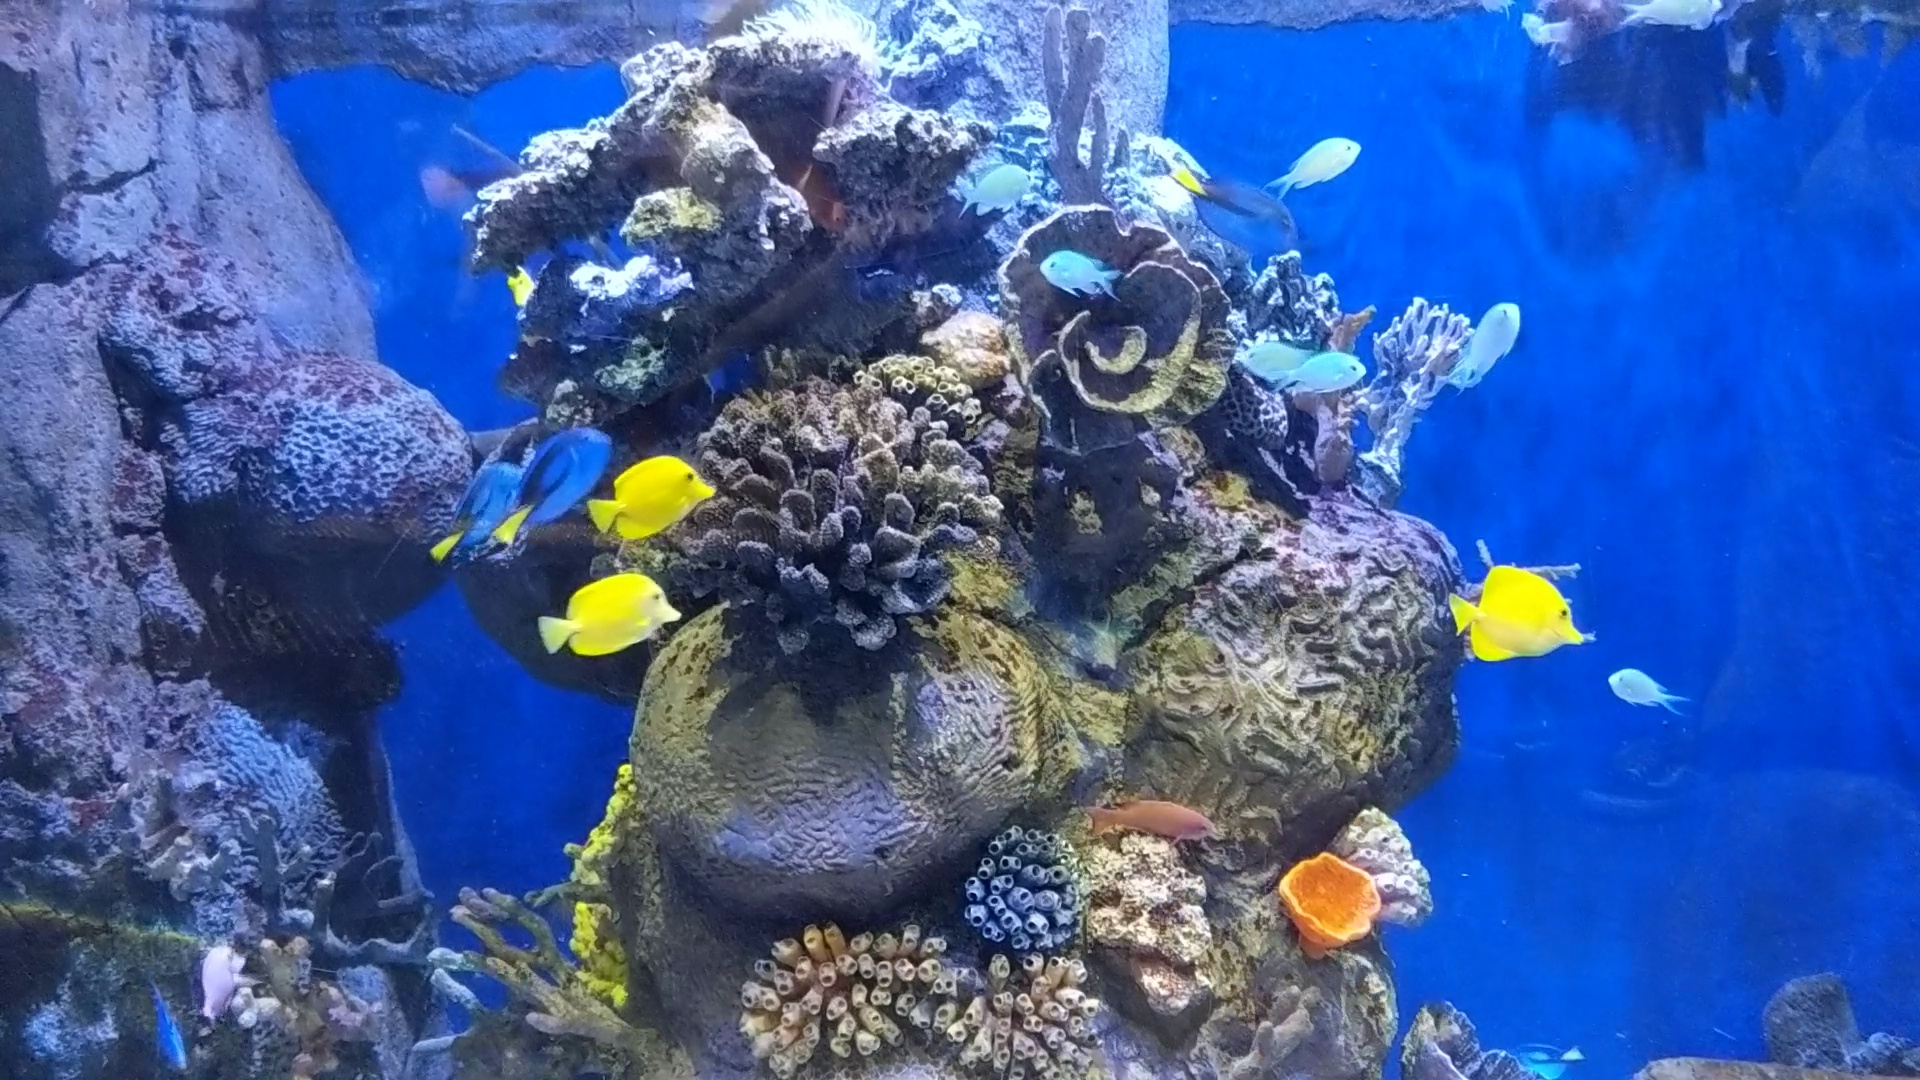blue tang surgeonfish: (135, 978, 203, 1080), (1464, 1038, 1596, 1080)
damselfish: (487, 422, 621, 551), (1153, 148, 1305, 258), (415, 460, 547, 562), (1439, 295, 1522, 393), (1262, 131, 1366, 198), (1605, 665, 1696, 724), (955, 161, 1040, 219), (1038, 247, 1122, 302), (1615, 0, 1727, 41), (1269, 351, 1367, 396), (1225, 342, 1321, 382)
saddle butterfly fish: (1439, 555, 1586, 669), (530, 567, 684, 661), (578, 448, 721, 541), (489, 248, 546, 328)
